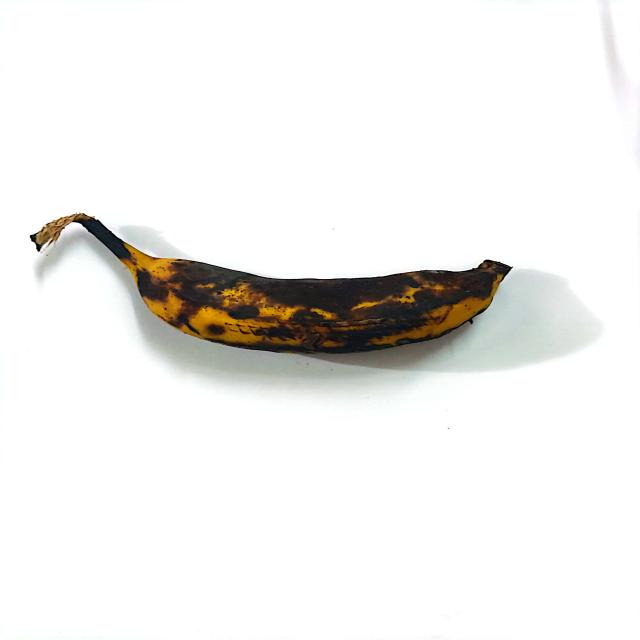rotten_banana: (40, 212, 504, 354)
